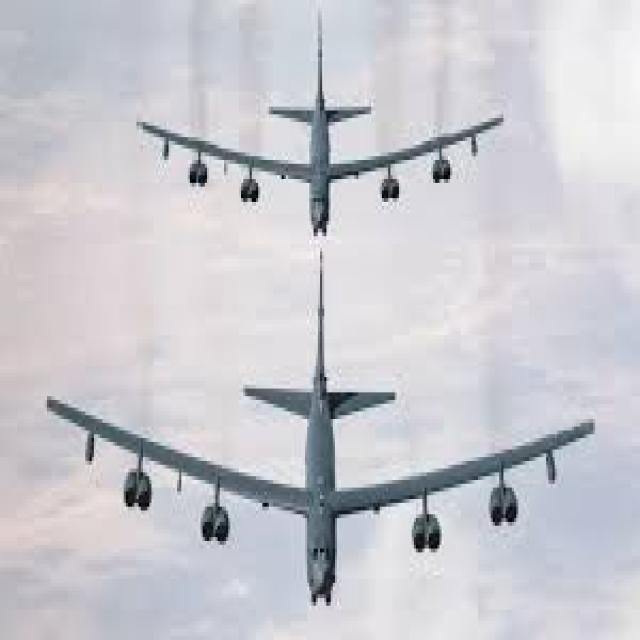B1: (34, 244, 619, 612), (124, 8, 527, 256)
